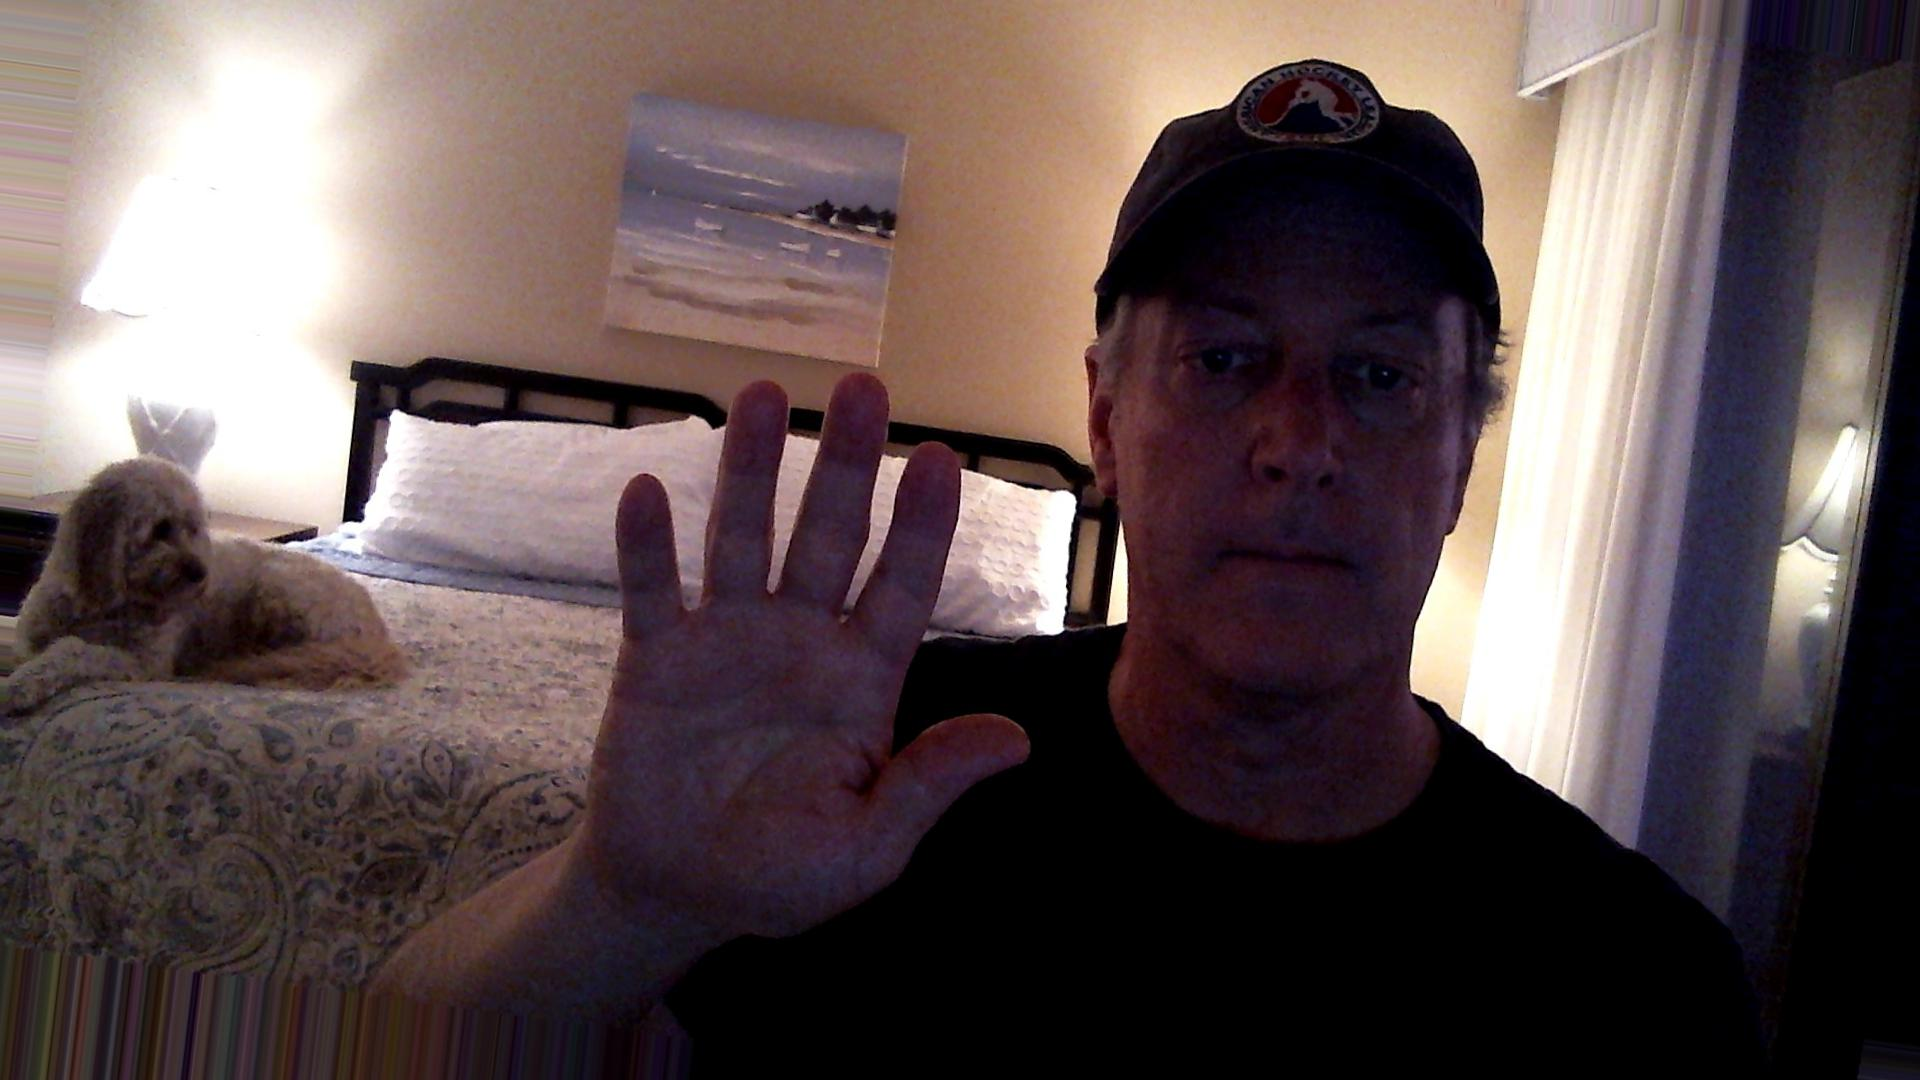Hello: (571, 372, 1039, 940)
